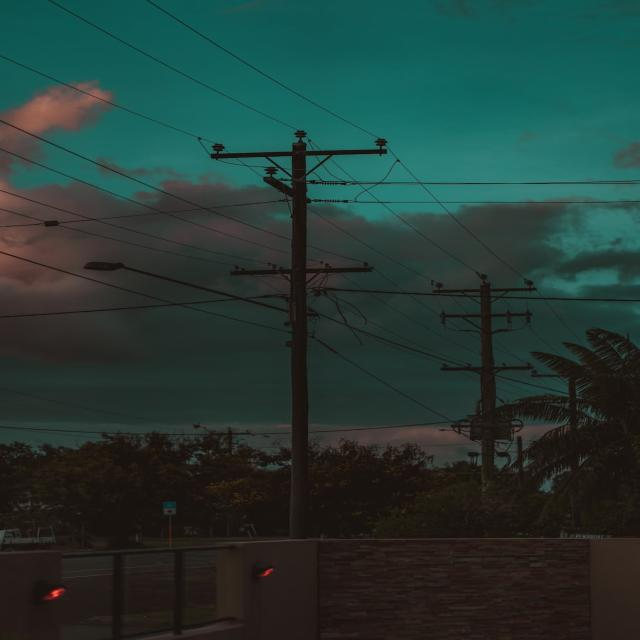transmission tower: (157, 108, 415, 371)
